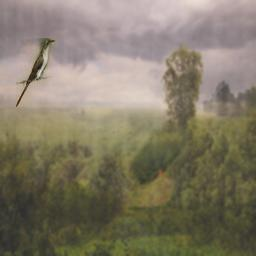Cuckoo: (16, 38, 56, 107)
